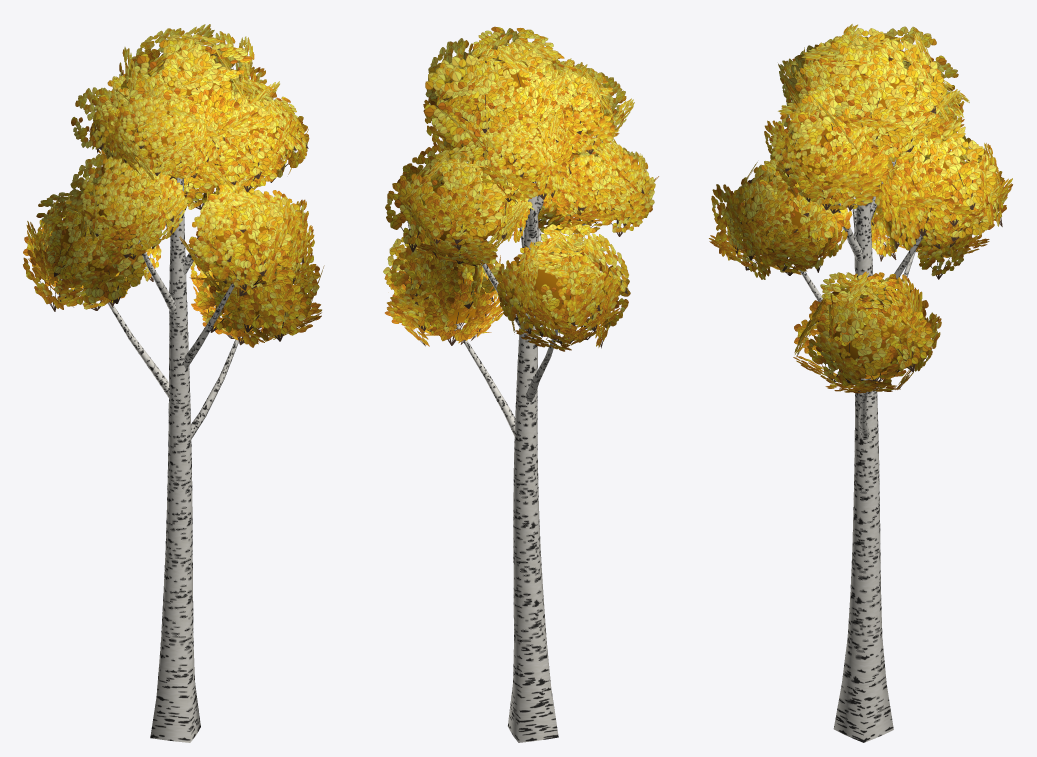
Rendered from birch_tree.glb.
3 renders of one model, left to right at view 1: azimuth 30°, elevation 25°; view 2: azimuth 150°, elevation 25°; view 3: azimuth 270°, elevation 25°, orthographic. The views are drawn at different scales.
Visible parts, largest first — view 1: birch_tree; view 2: birch_tree; view 3: birch_tree.
Boxes of the visible parts, x1=… form: birch_tree: x1=23, y1=24, x2=324, y2=742; birch_tree: x1=383, y1=26, x2=658, y2=742; birch_tree: x1=709, y1=24, x2=1012, y2=742.
Size of the model in its own units: 3.73 by 9.07 by 3.71.
Materials: 3 (2 with a texture image).
